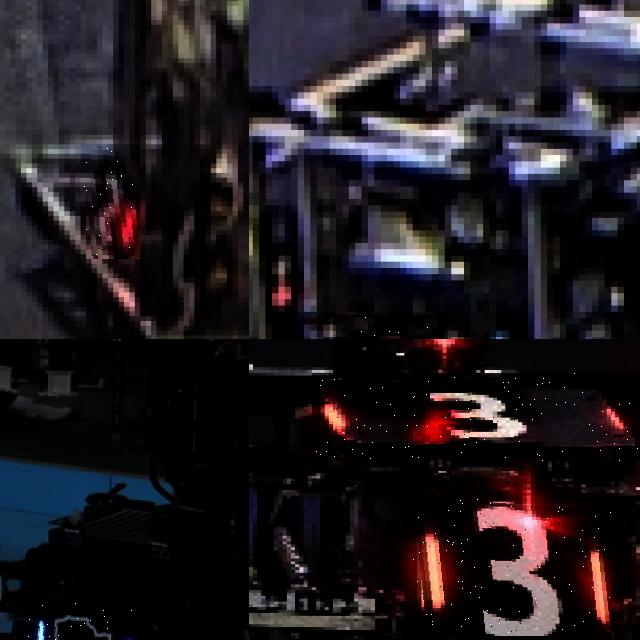Bs: (27, 601, 134, 640)
R2: (81, 144, 140, 259), (333, 315, 448, 339)
R3: (312, 372, 640, 461), (413, 498, 611, 636)
